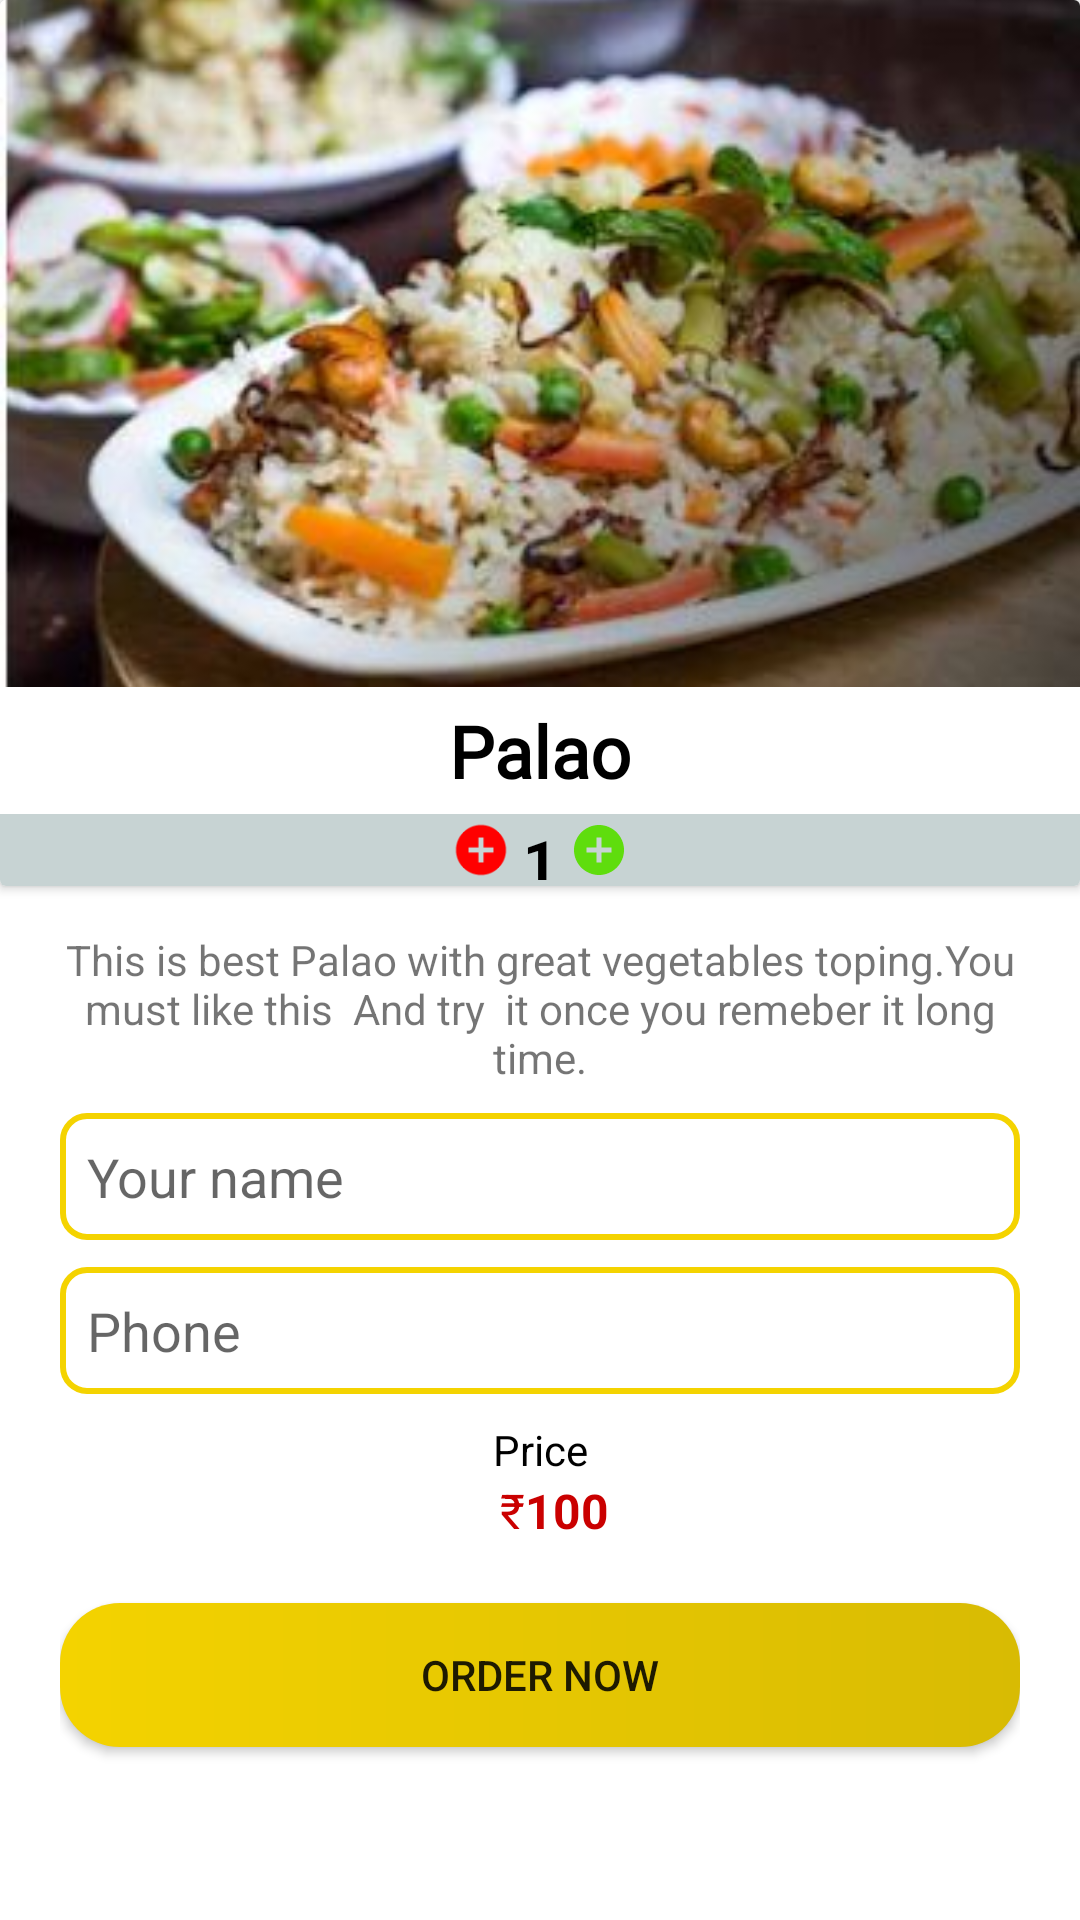

Named icons in this screenshot (1080w x 1920h) and their bounding boxes, detection(x1, y1, x2, y2):
increment: detection(574, 825, 624, 875)
